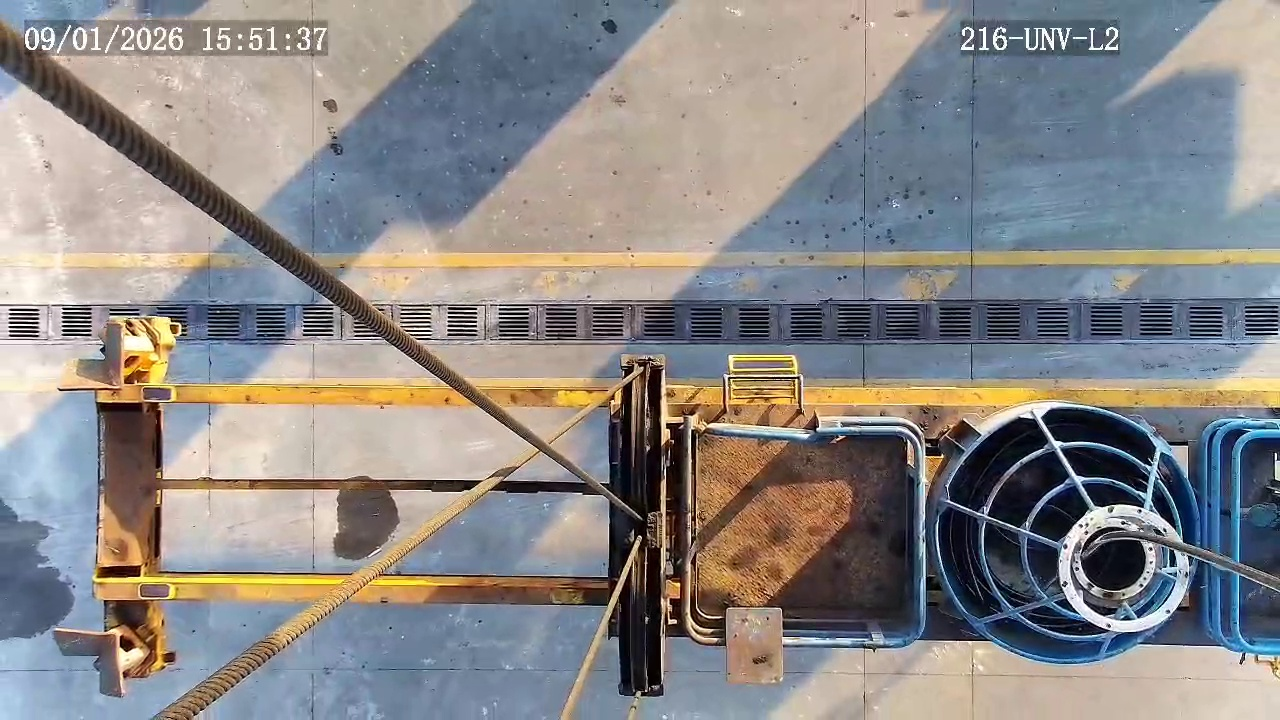left: (1055, 505, 1190, 631)
